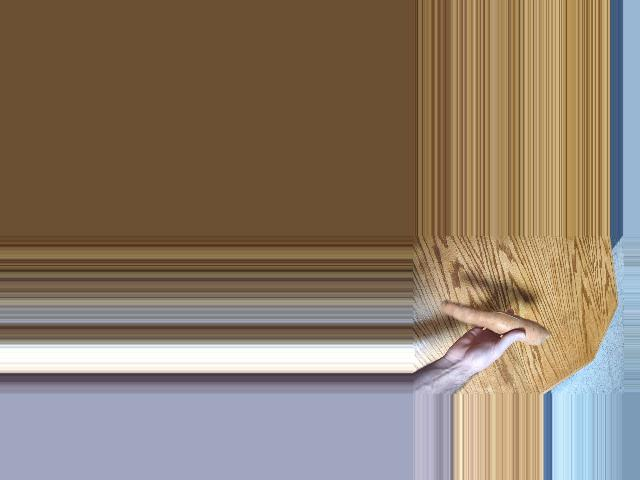sweet_potato: (435, 309, 547, 339)
